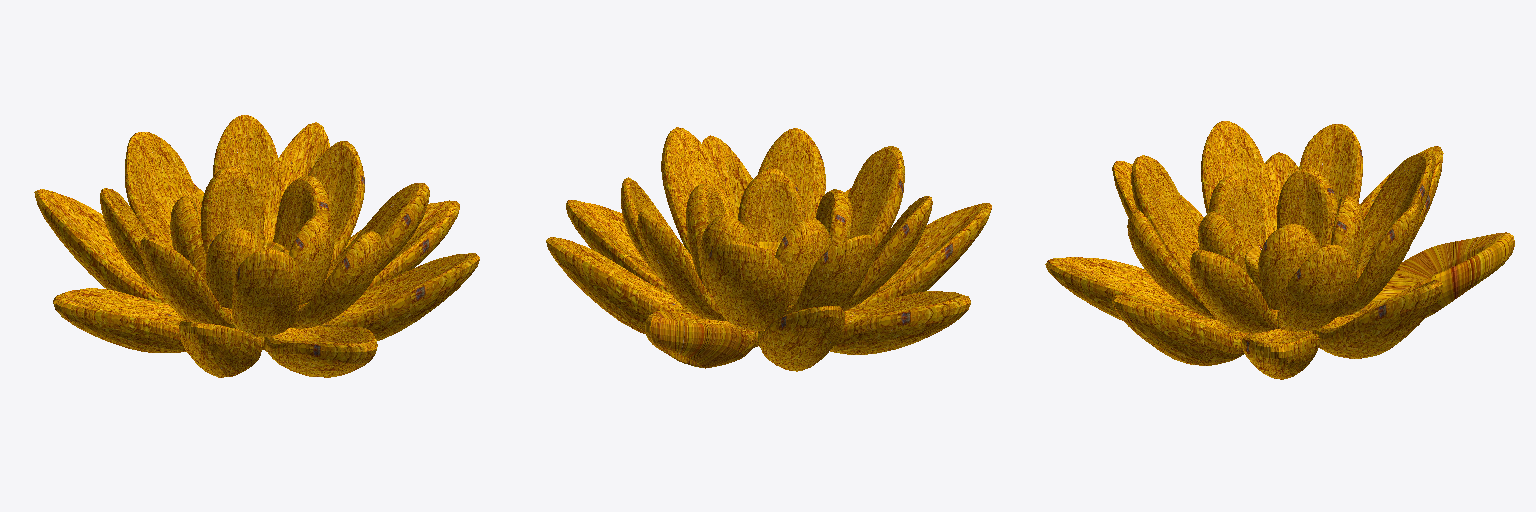
The picture shows the model from 3 angles: view 1: azimuth 30°, elevation 25°; view 2: azimuth 150°, elevation 25°; view 3: azimuth 270°, elevation 25°; orthographic projection.
Parts seen in each view (by area): view 1: F; view 2: F; view 3: F.
Boxes of the visible parts, box(x1,y1,x2,y2) form: F: box(34, 115, 479, 377); F: box(546, 127, 991, 371); F: box(1045, 121, 1514, 379).
Bounding box in the file's own units: 5.76 × 2.16 × 5.78.
Materials: 1 (1 with a texture image).